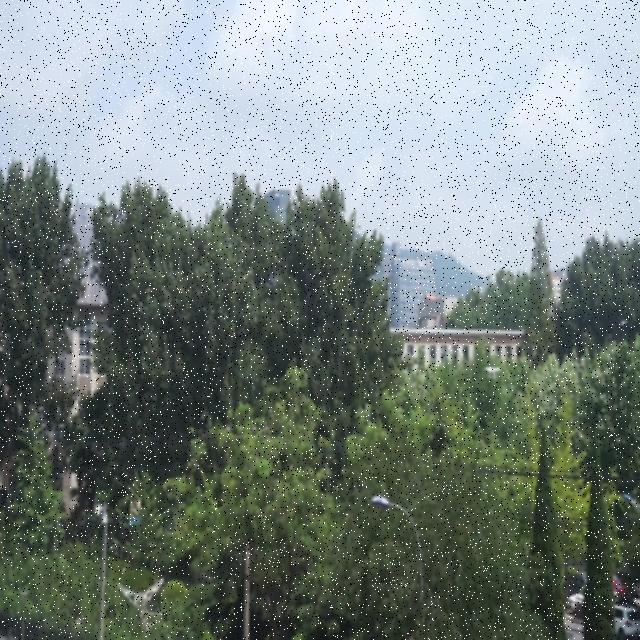UAV: (485, 366, 501, 378)
